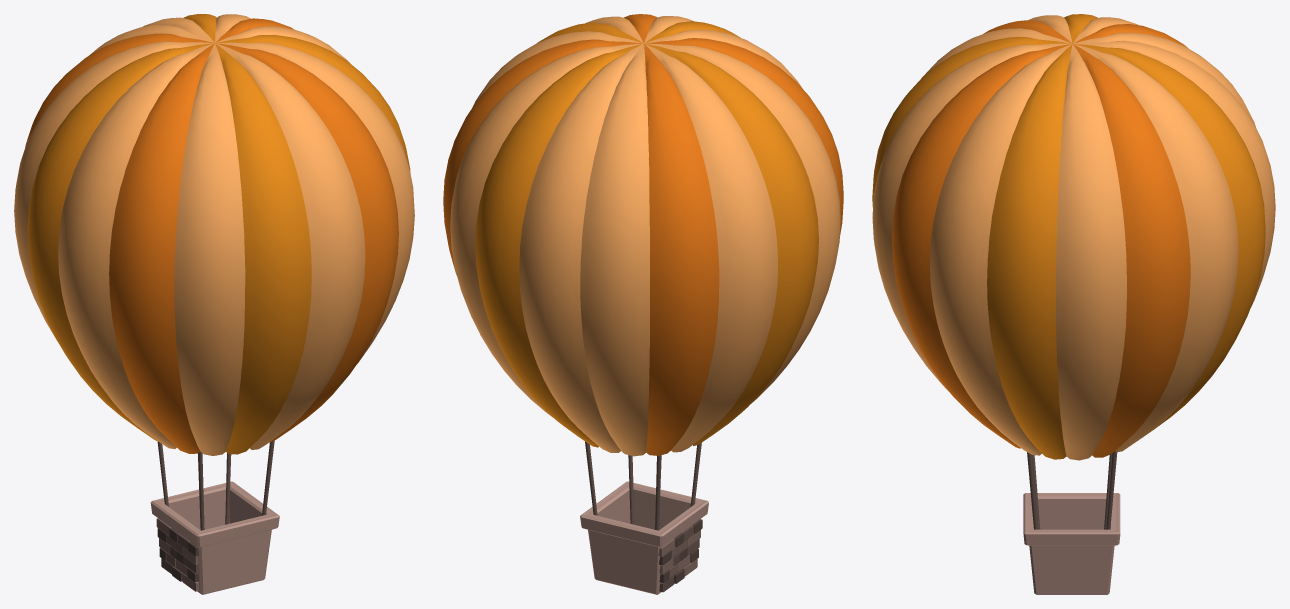
Rendered from balloon_orange_d.glb.
The picture shows the model from 3 angles, left to right: view 1: azimuth 30°, elevation 25°; view 2: azimuth 150°, elevation 25°; view 3: azimuth 270°, elevation 25°; orthographic projection.
Parts seen in each view (by area): view 1: 球.001, 立方体.002; view 2: 球.001, 立方体.002; view 3: 球.001, 立方体.002.
Boxes of the visible parts, left/top/right/bottom form: 球.001: left=14, top=14, right=414, bottom=455; 立方体.002: left=150, top=481, right=279, bottom=594; 球.001: left=443, top=14, right=843, bottom=456; 立方体.002: left=580, top=481, right=708, bottom=594; 球.001: left=872, top=14, right=1275, bottom=460; 立方体.002: left=1023, top=493, right=1120, bottom=594.
Bounding box in the file's own units: 1.9 × 2.78 × 1.89.
